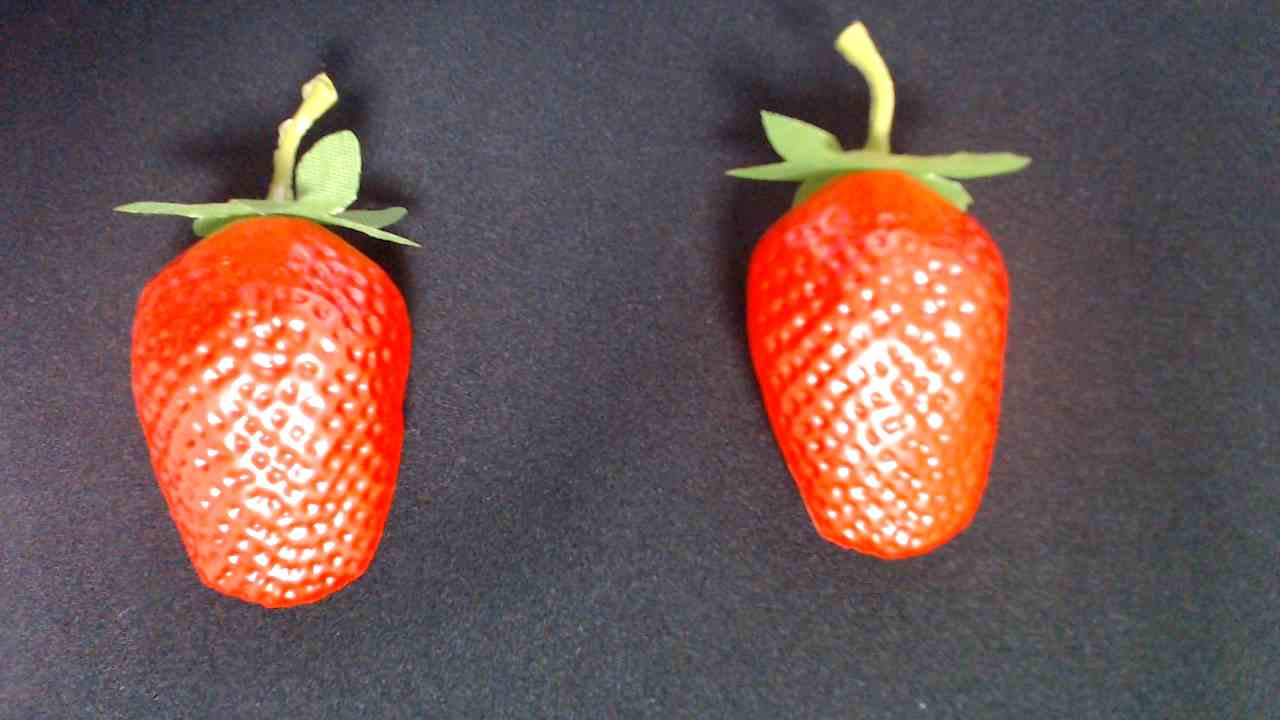strawberry: (113, 180, 427, 613), (729, 123, 1021, 581)
